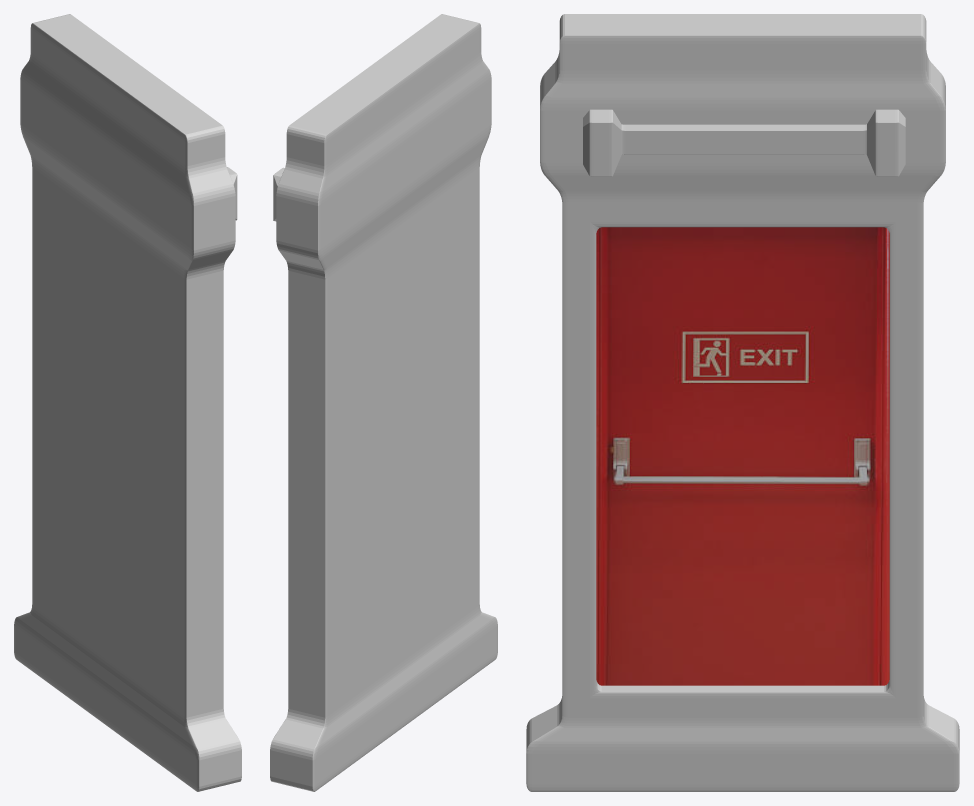
File: ExitDoorx.fbx
3 views of the same model, side by side, from view 1: azimuth 30°, elevation 25°; view 2: azimuth 150°, elevation 25°; view 3: azimuth 270°, elevation 25° (orthographic). The views are drawn at different scales.
Parts seen in each view (by area): view 1: Cube.036; view 2: Cube.036; view 3: Cube.036, Plane, Cube.037.
Boxes of the visible parts, x1=… form: Cube.036: x1=14, y1=14, x2=241, y2=791; Cube.036: x1=270, y1=14, x2=497, y2=791; Cube.036: x1=526, y1=14, x2=959, y2=791; Plane: x1=596, y1=227, x2=889, y2=685; Cube.037: x1=583, y1=109, x2=905, y2=176.
Size of the model in its own units: 45.5 by 426 by 221.
